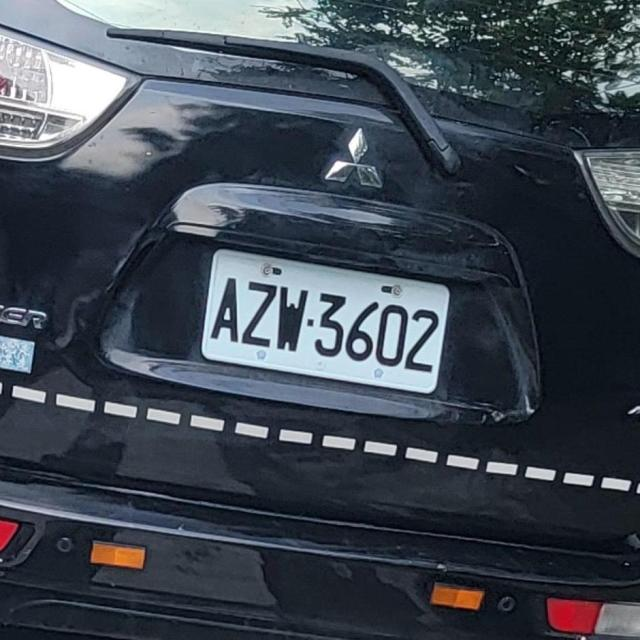W: (196, 244, 457, 397)
